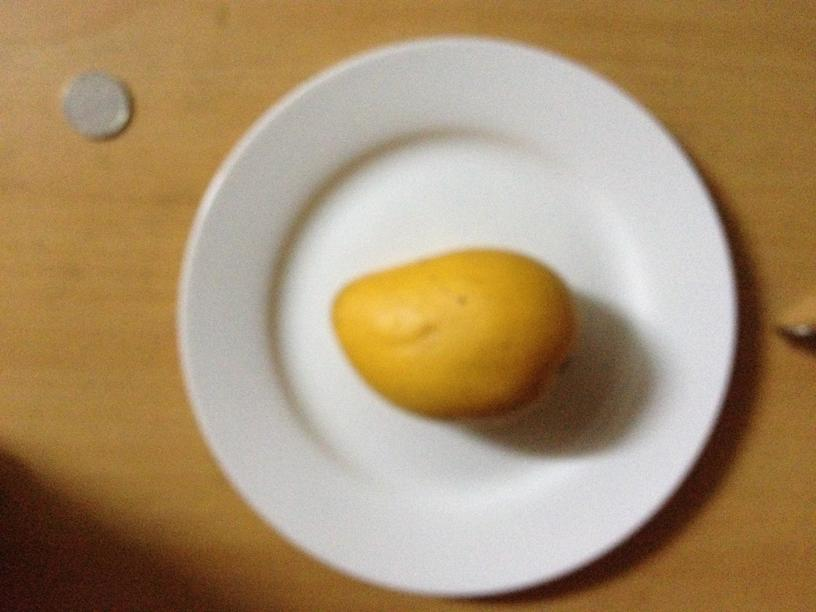coin: (61, 74, 129, 139)
mango: (327, 246, 572, 421)
